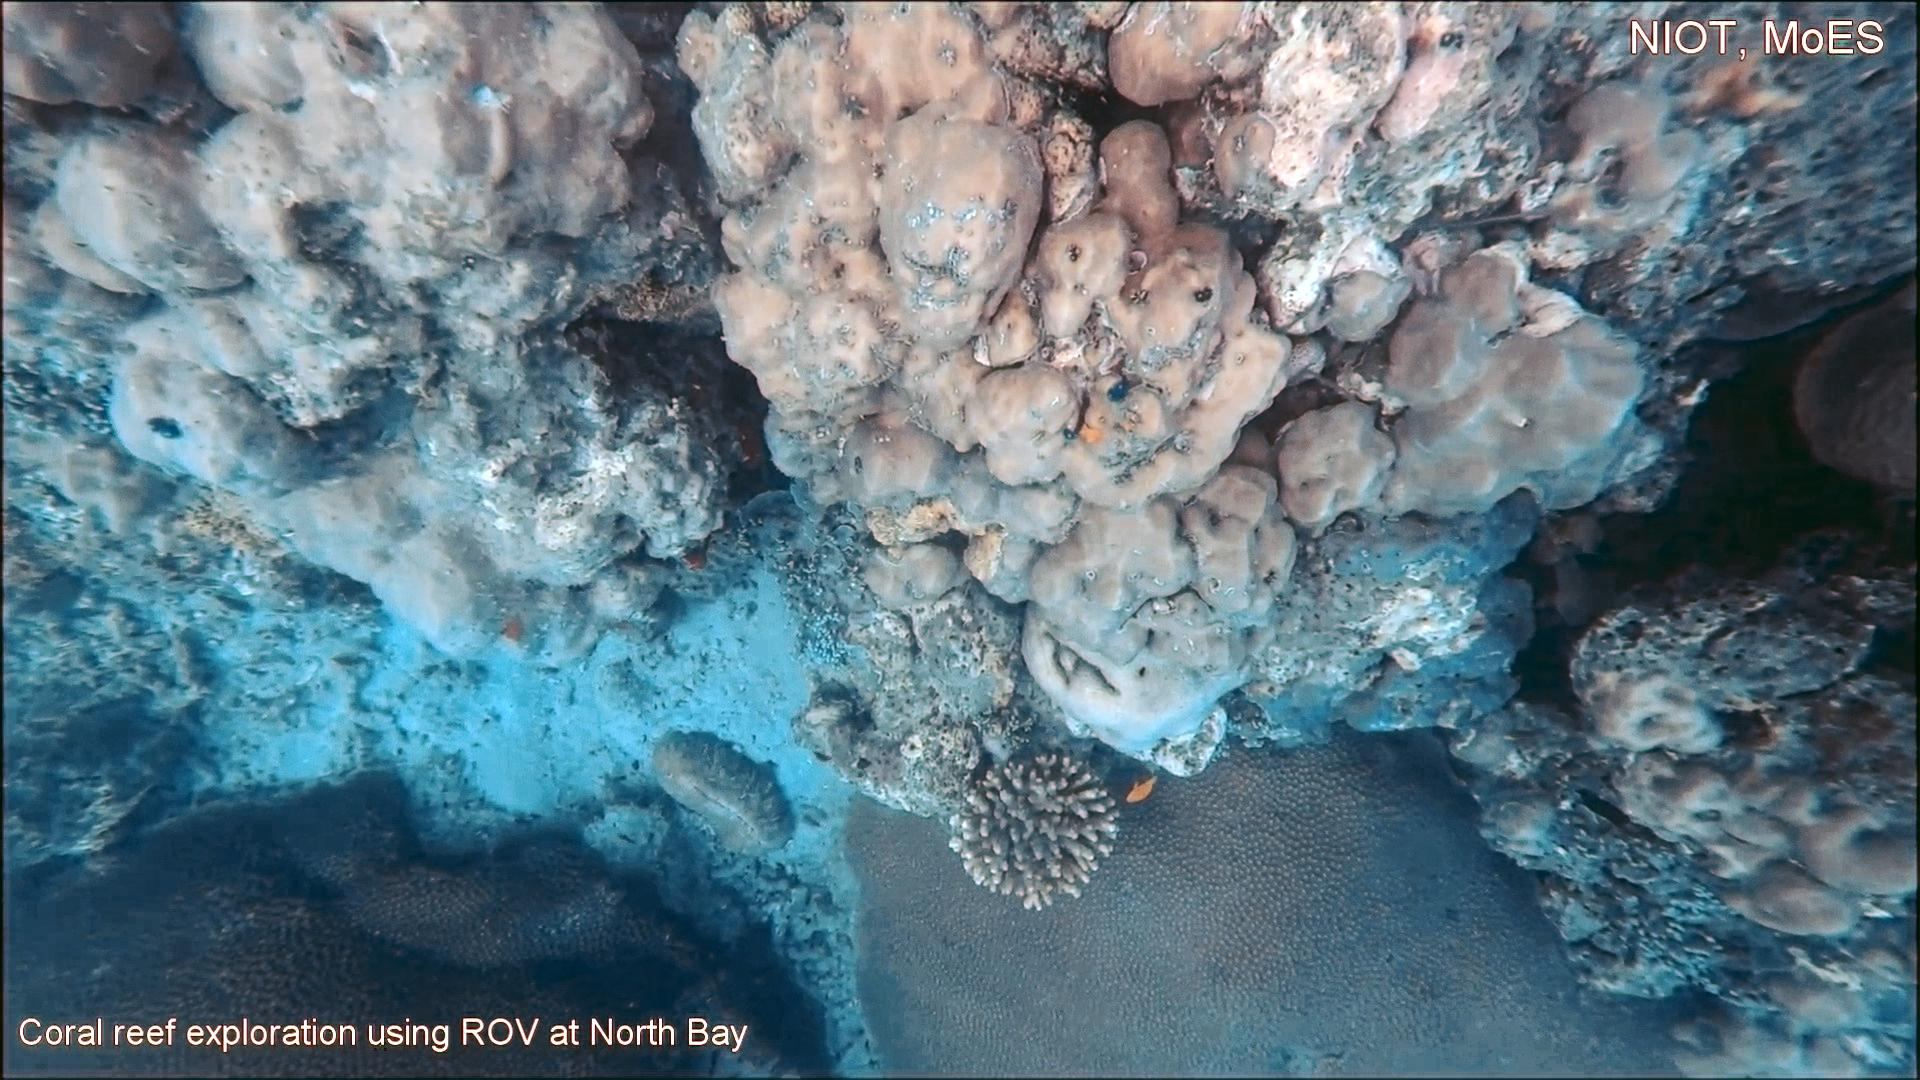Meandrina meandrites: (1780, 256, 1920, 513)
